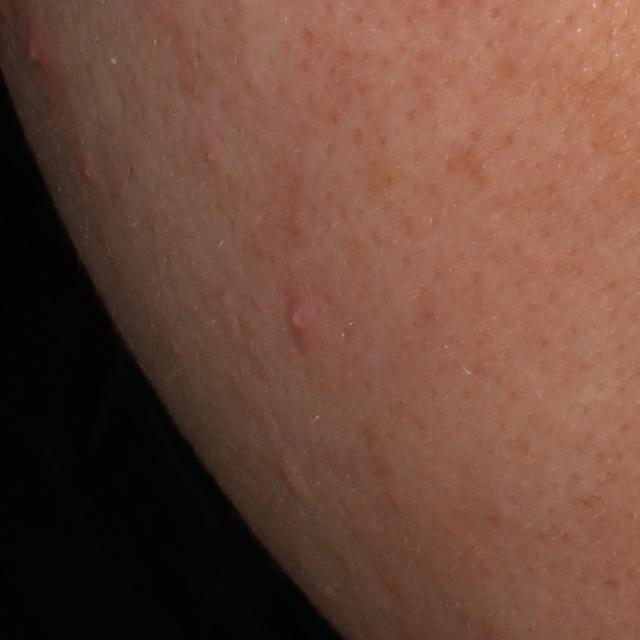comedo: (280, 464, 306, 500)
papule: (17, 30, 45, 70), (287, 302, 315, 336), (201, 143, 222, 167), (80, 161, 96, 182)
